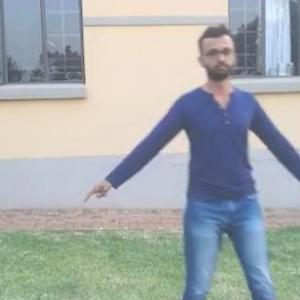land: (92, 39, 299, 299)
